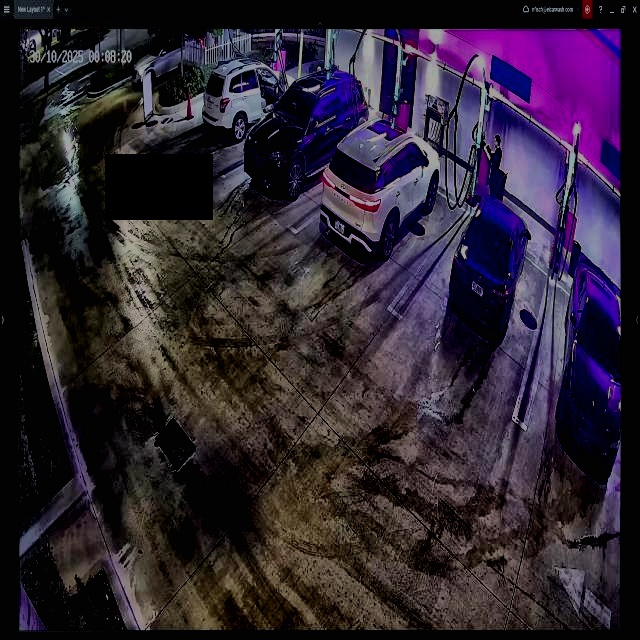Car: (320, 113, 437, 261), (246, 66, 367, 191), (448, 192, 528, 337)
